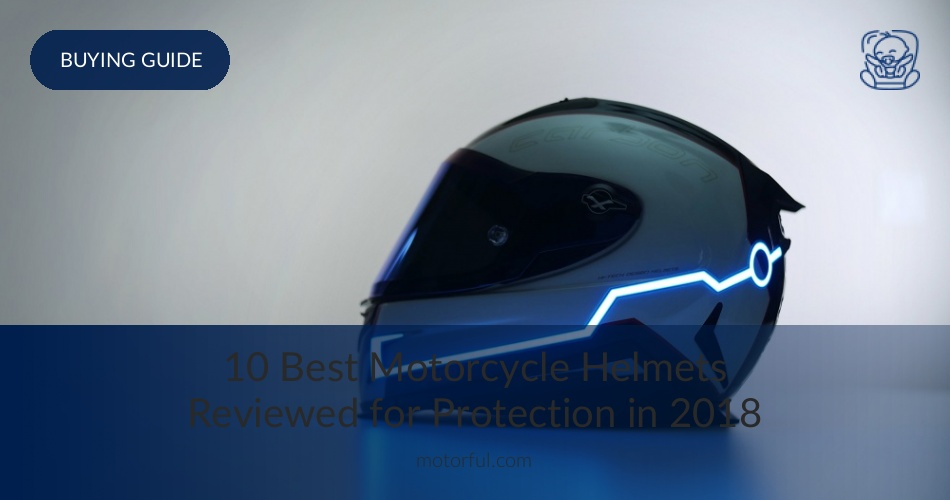with_helmet: (355, 94, 799, 440)
